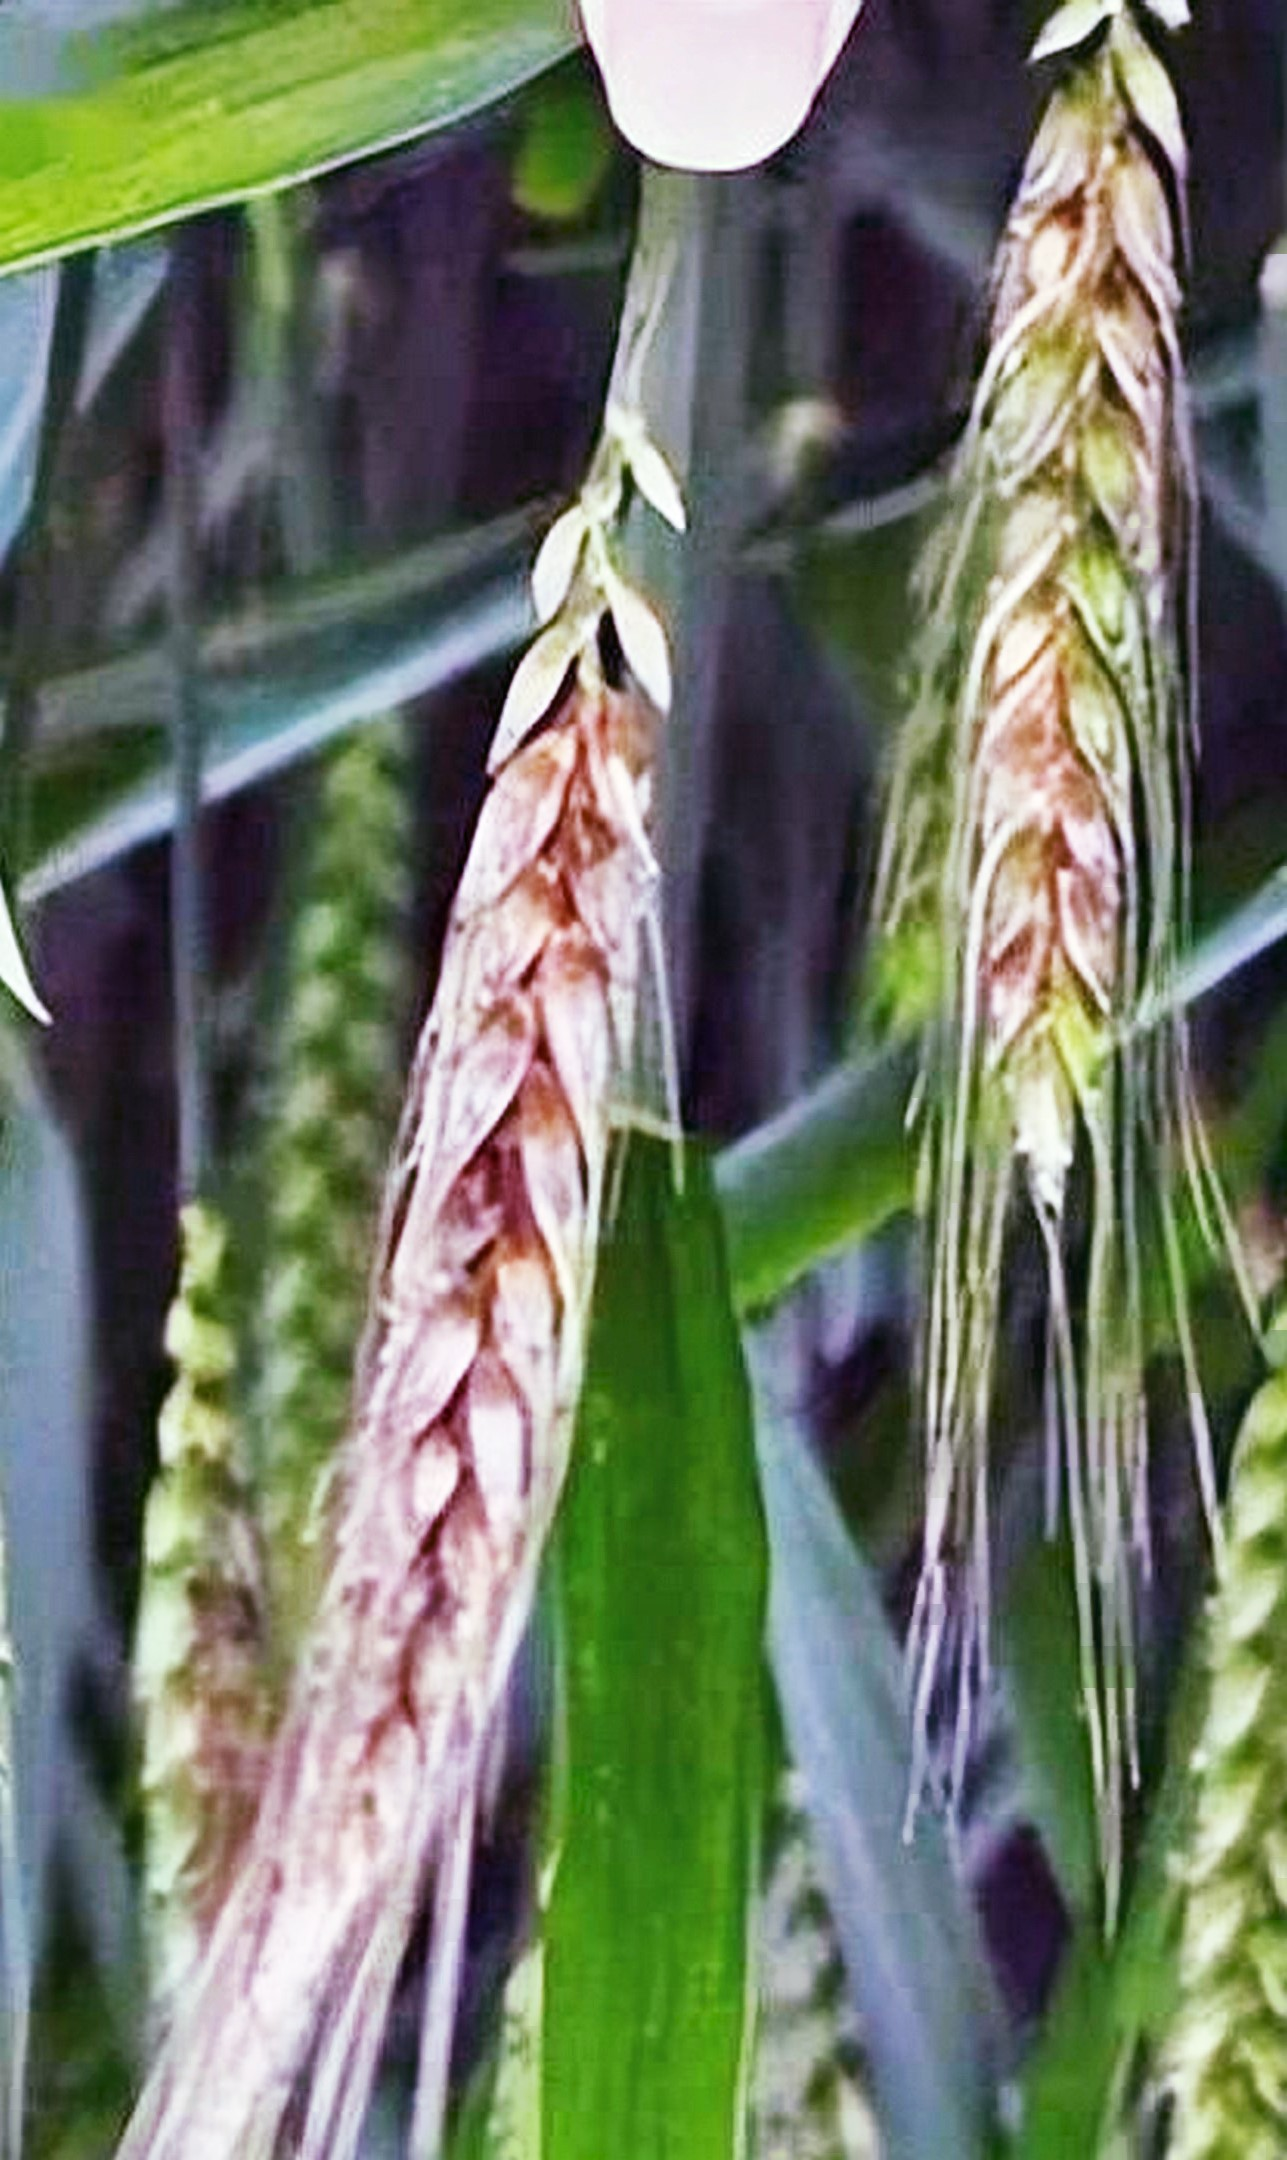Wheat scab: (239, 548, 666, 1961), (872, 31, 1240, 1222)
